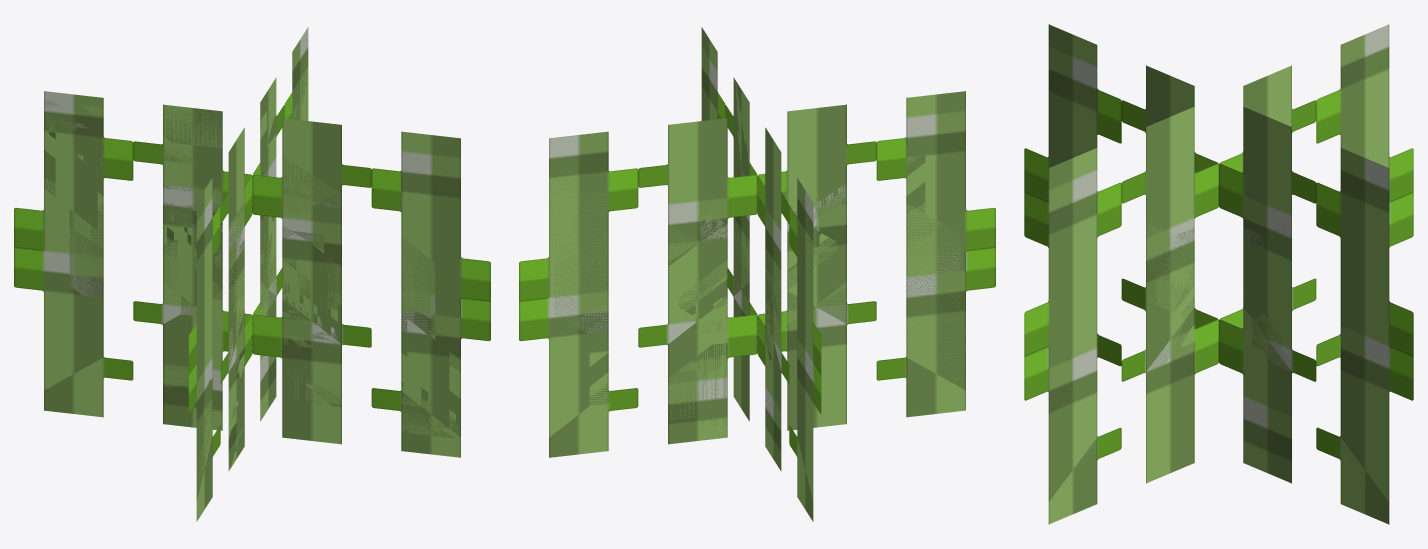
The model's file is plant.obj.
The picture shows the model from 3 angles, left to right: view 1: azimuth 30°, elevation 25°; view 2: azimuth 150°, elevation 25°; view 3: azimuth 270°, elevation 25°; orthographic projection. The views are drawn at different scales.
Parts seen in each view (by area): view 1: Cube2; view 2: Cube2; view 3: Cube2.
Part boxes in pixels (box(x1,y1,x2,y2)): Cube2: box(14, 27, 490, 521); Cube2: box(519, 27, 995, 521); Cube2: box(1024, 24, 1413, 524).
Bounding box in the file's own units: 0.9899 × 1 × 0.9899.
1 material, 1 textured.
